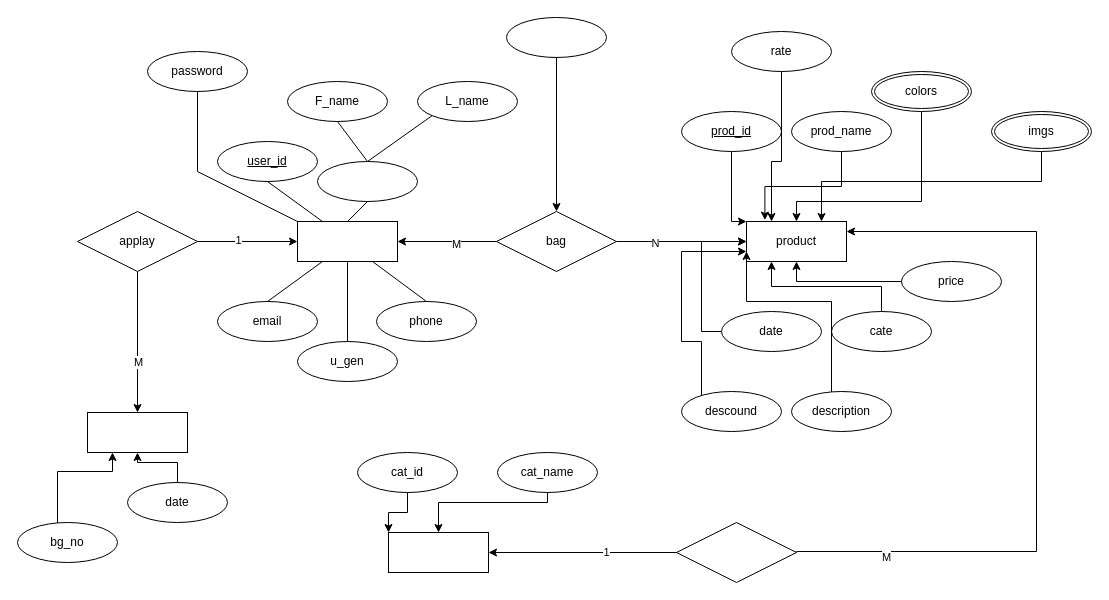
This 1109x600 diagram has some shape labels left out. Each missing label, with the box of its shape:
category: (388, 532, 488, 572)
check out: (86, 412, 188, 452)
into: (676, 522, 796, 582)
name: (316, 160, 418, 202)
QTY: (506, 16, 606, 58)
user: (296, 220, 398, 262)
